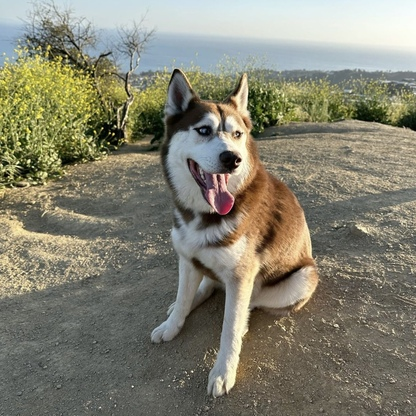husky: (147, 63, 325, 400)
